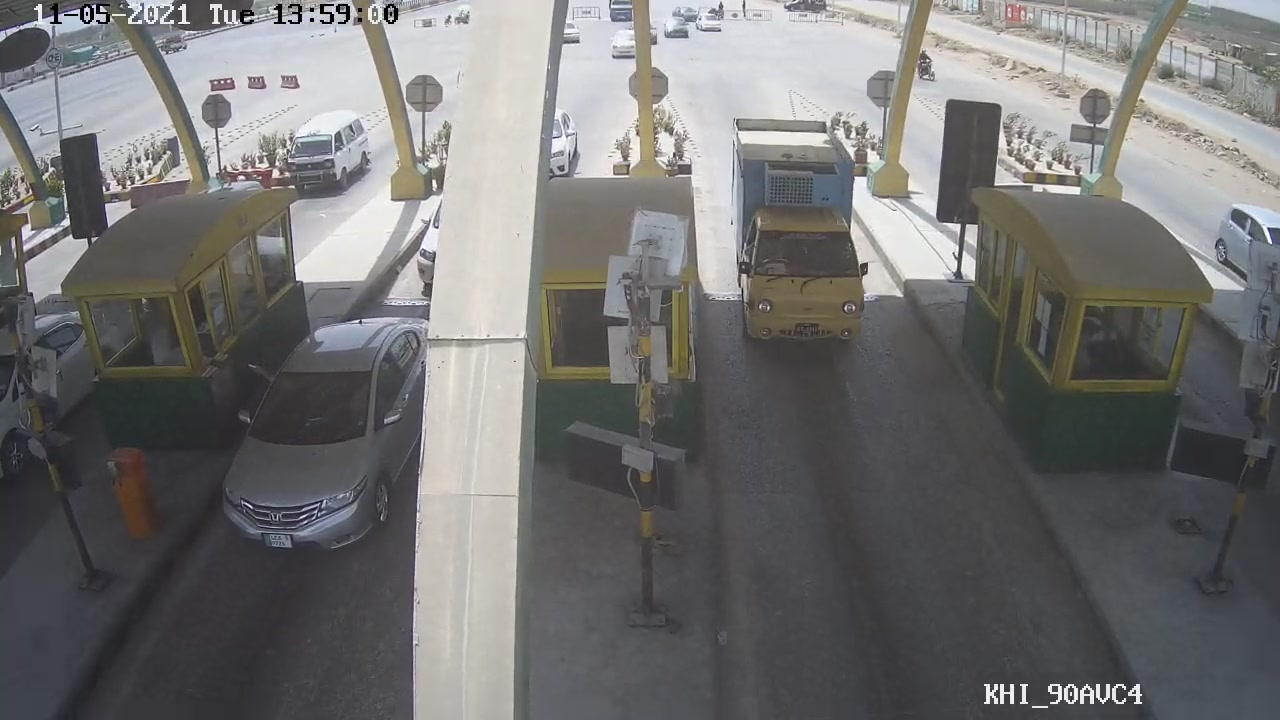F2: (723, 116, 873, 350)
